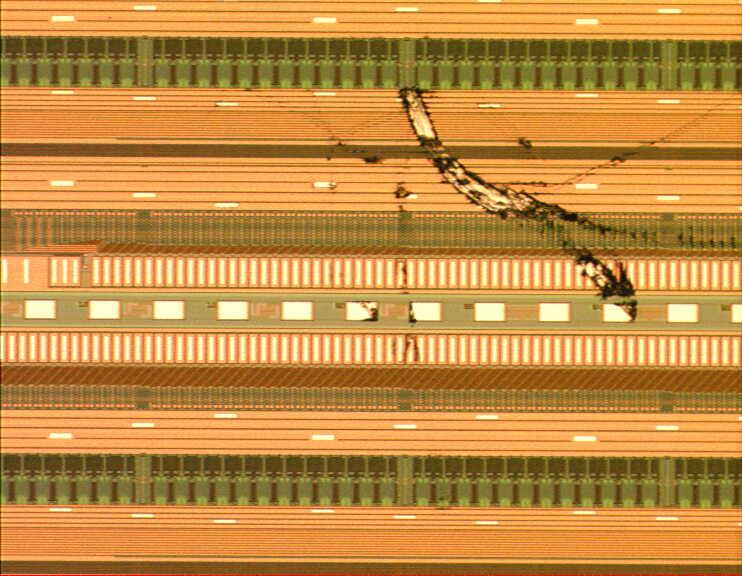SCRATCH: (238, 80, 742, 373)
